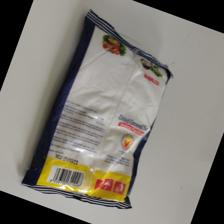Salt: (23, 9, 173, 210)
